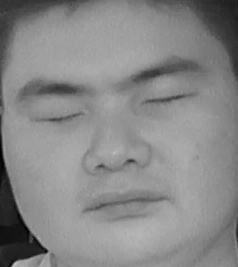blink: (32, 101, 88, 133), (143, 85, 194, 118)
mouth: (78, 180, 170, 229)
